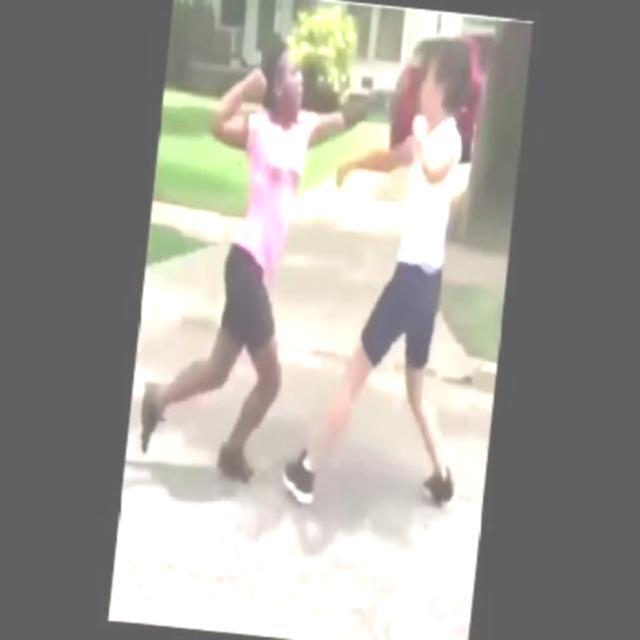fight: (170, 27, 467, 521)
